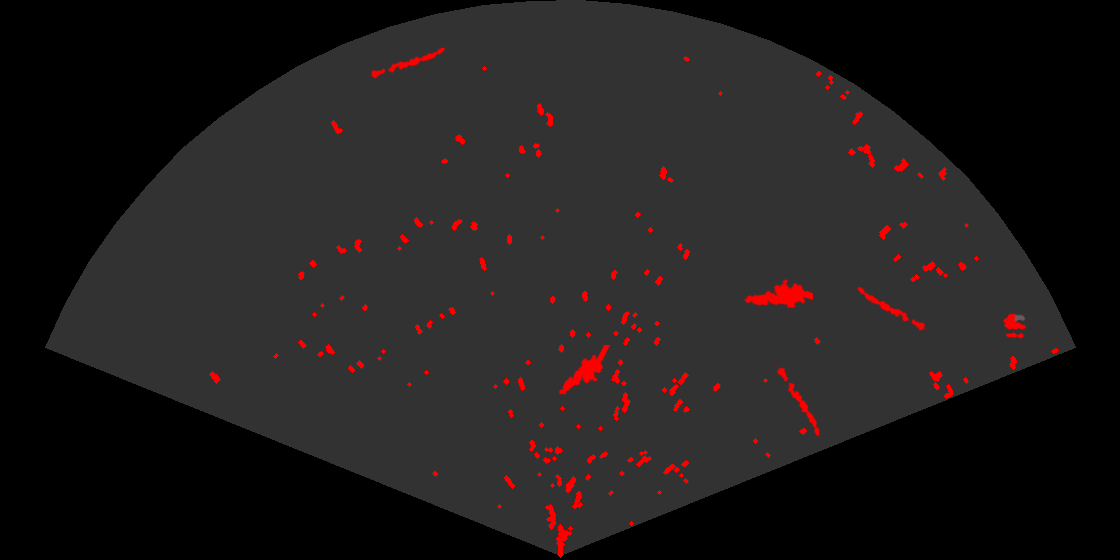ball: (1002, 312, 1028, 340)
chain: (771, 358, 821, 438), (856, 285, 929, 333), (368, 46, 447, 80)
frogman: (557, 345, 611, 397), (742, 277, 813, 310)
